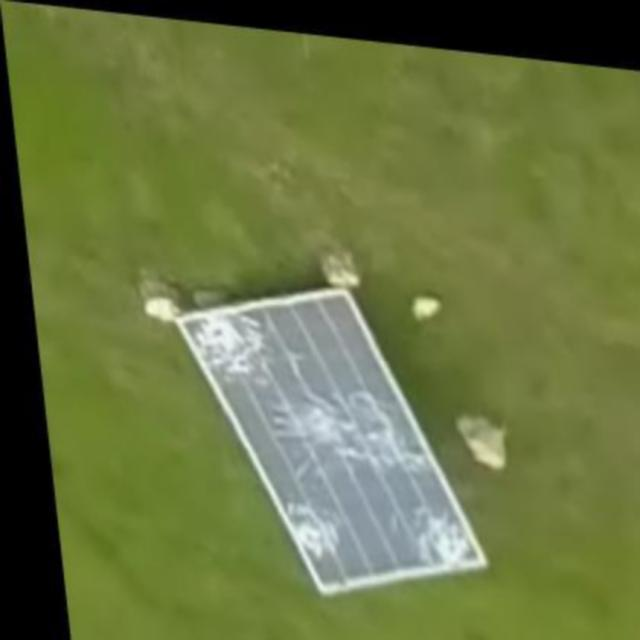cracked: (180, 286, 490, 604)
